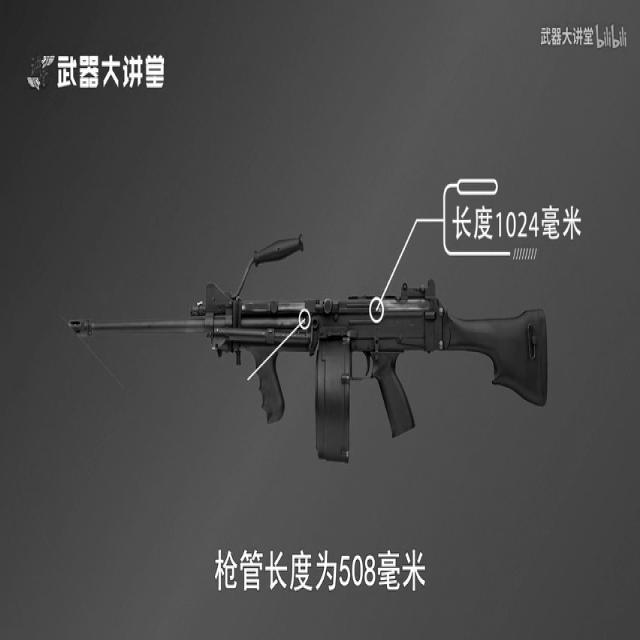Sniper: (34, 181, 616, 564)
